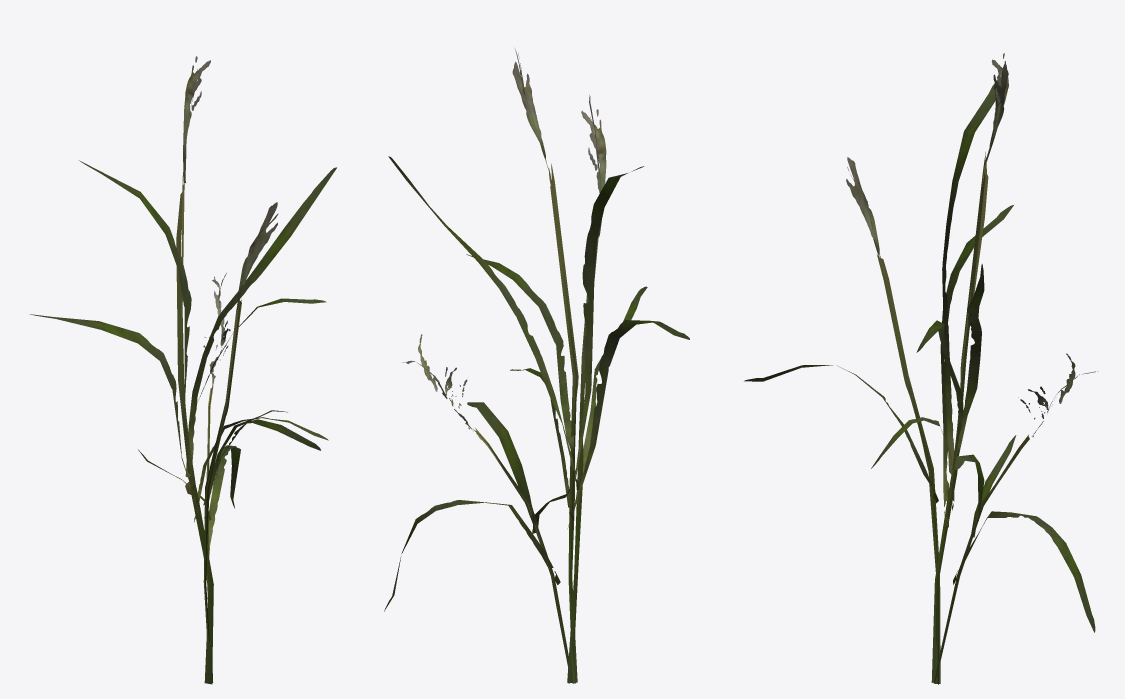
3 views of the same model, side by side, from view 1: azimuth 30°, elevation 25°; view 2: azimuth 150°, elevation 25°; view 3: azimuth 270°, elevation 25° (orthographic). The views are drawn at different scales.
Parts seen in each view (by area): view 1: grass_medium_01__f_lod1; view 2: grass_medium_01__f_lod1; view 3: grass_medium_01__f_lod1.
Part boxes in pixels (box(x1,y1,x2,y2)): grass_medium_01__f_lod1: box(29, 56, 336, 684); grass_medium_01__f_lod1: box(384, 49, 689, 683); grass_medium_01__f_lod1: box(744, 53, 1097, 684).
Size of the model in its own units: 0.1684 by 0.3244 by 0.1637.
1 material, 1 textured.
